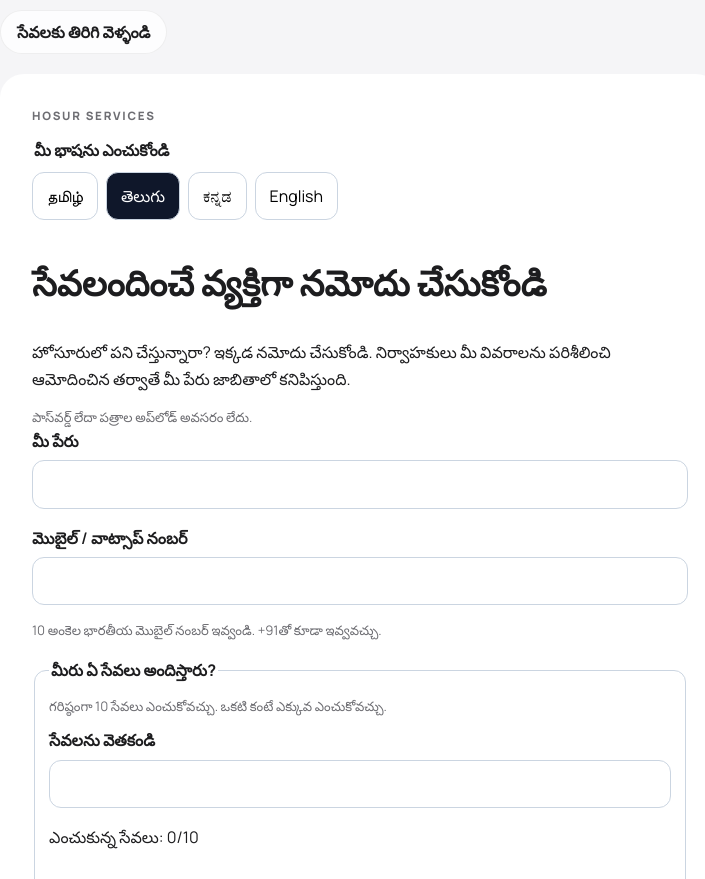
Test: provider registration › submits a pending application in te without caching applicant details
The image size is (705, 879).
Type "కుమార్" into the field labelled "మీ పేరు" at (360, 484), box [32,460,688,509]
Type "9876543210" into the field labelled "మొబైల్ / వాట్సాప్ నంబర్" at (360, 581), box [32,557,688,605]
(page scrolled)
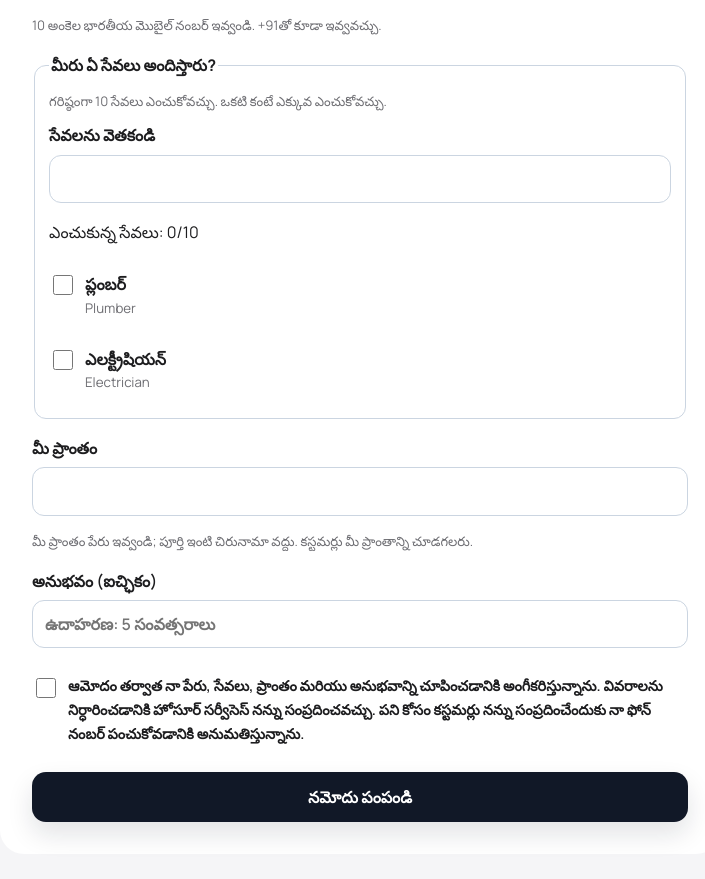
Type "Test locality" into the field labelled "మీ ప్రాంతం" at (360, 492), box [32,468,688,516]
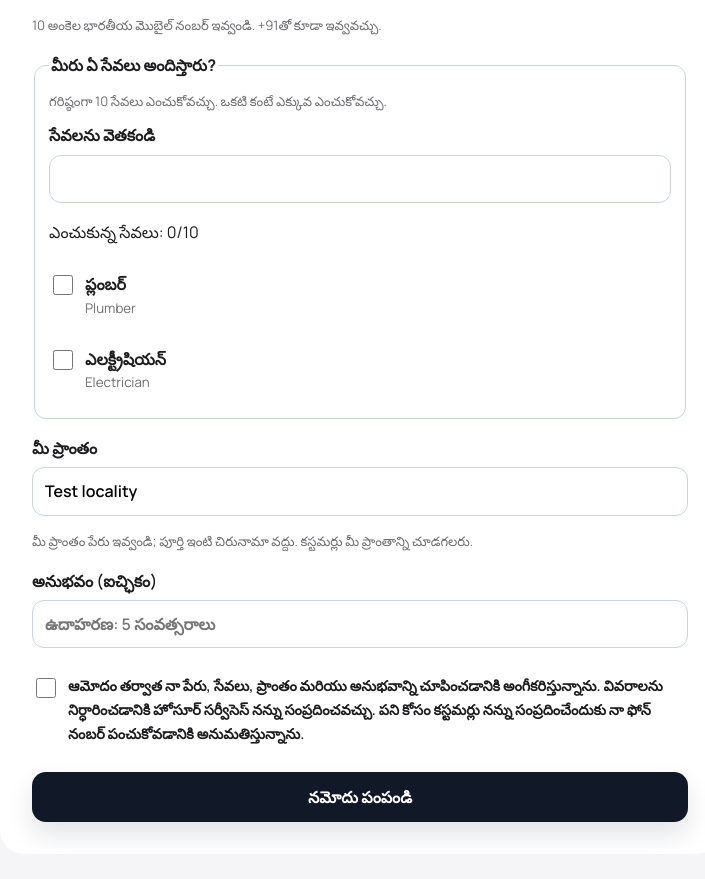
Click the checkbox labelled "ప్లంబర్ Plumber" at (63, 285), box [53,275,73,295]
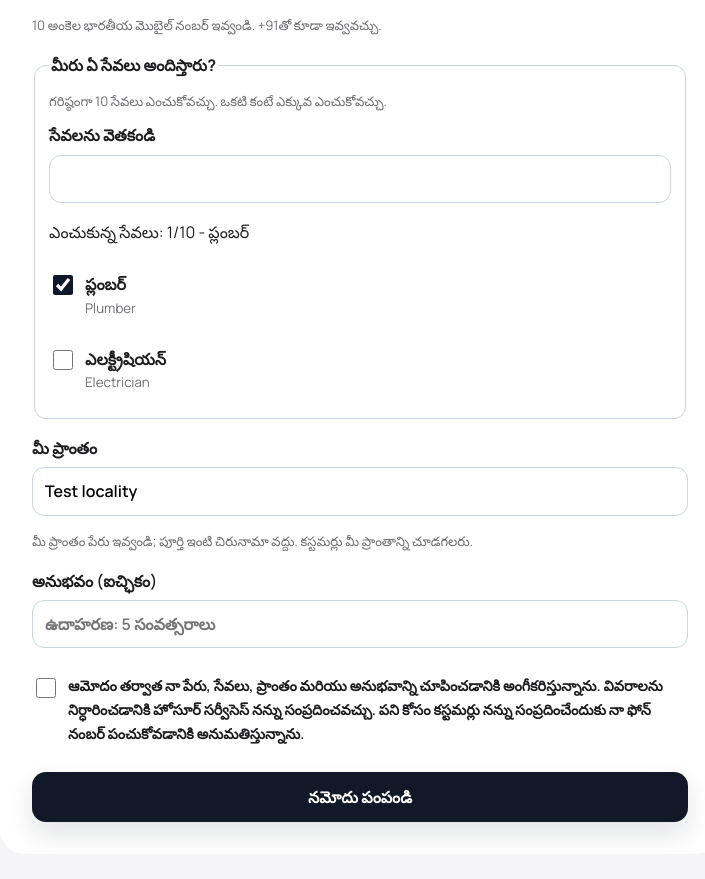
Click the checkbox named "ఆమోదం తర్వాత నా పేరు, సేవలు, ప్రాంతం మరియు అనుభవాన్ని చూపించడానికి అంగీకరిస్తున్నాను. వివరాలను నిర్ధారించడానికి హోసూర్ స" at (46, 688), box [36,678,56,698]
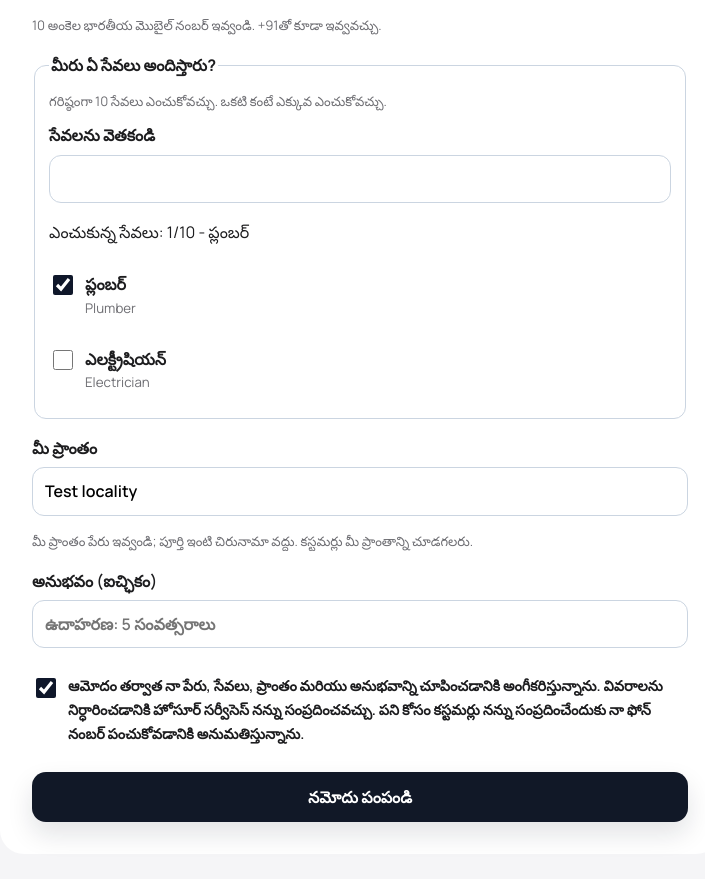
Click the checkbox labelled "ఎలక్ట్రీషియన్ Electrician" at (63, 360), box [53,350,73,370]
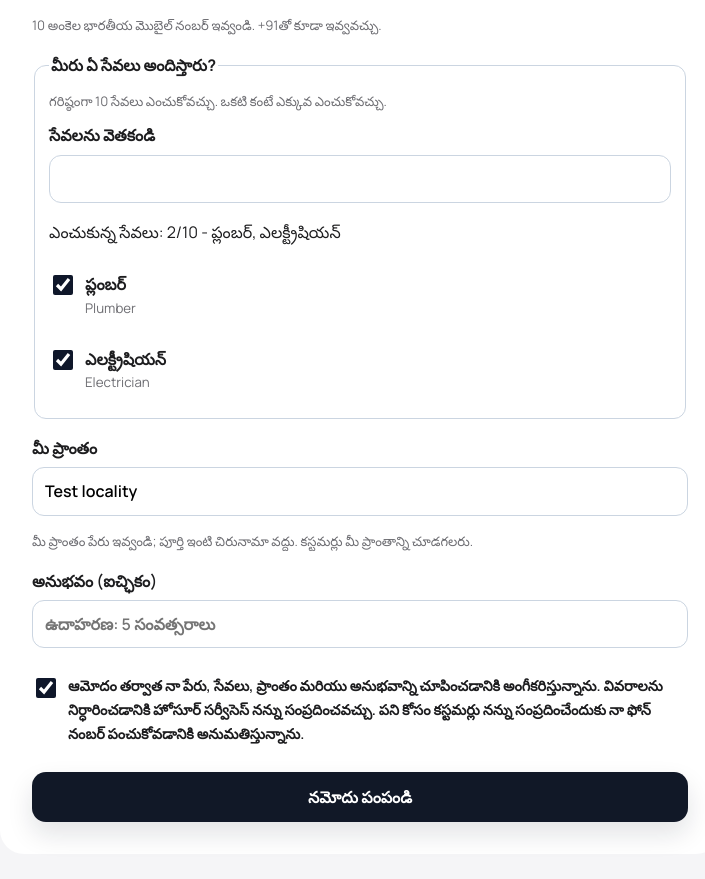
Click the button "నమోదు పంపండి" at (360, 797), box [32,772,688,822]
(page scrolled)
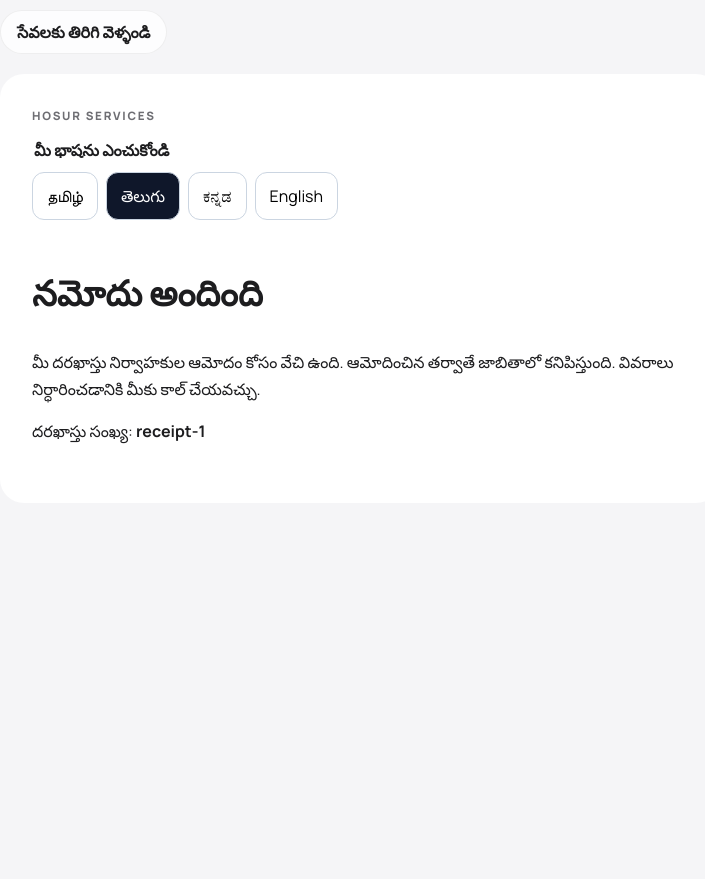
expect the heading "నమోదు అందింది" is shown: met, box [32,268,263,317]
expect the text "మీ దరఖాస్తు నిర్వాహకుల ఆమోదం కోసం వేచి ఉంది. ఆమోదించిన తర్వాతే జాబితాలో కనిపిస్తుంది. వివరాలు నిర్ధారించడానికి మీకు కాల్" is shown: met, box [32,351,673,400]
